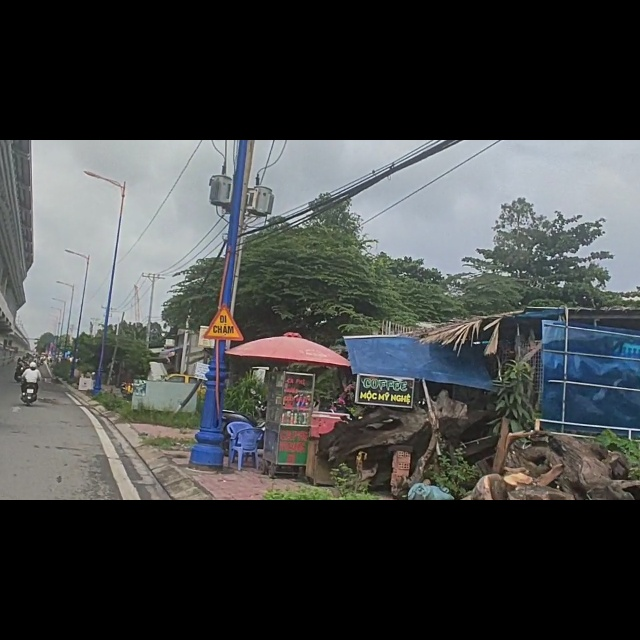bien_nguy_hiem: (202, 292, 245, 358)
